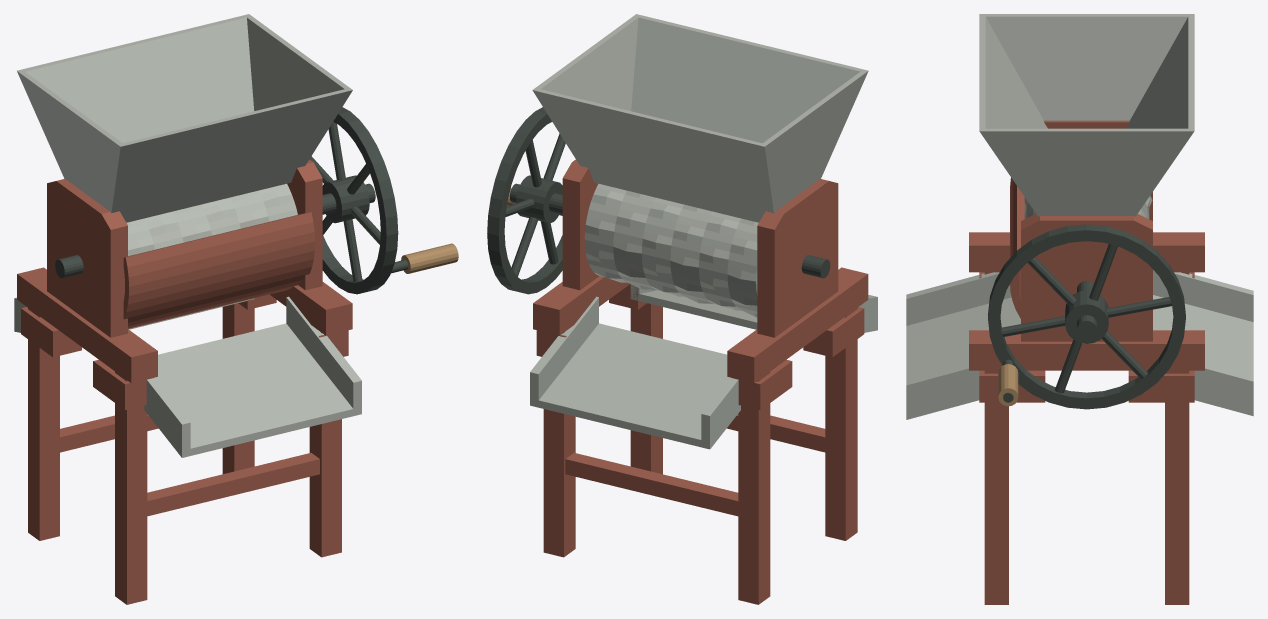
3 views of the same model, side by side, from view 1: azimuth 30°, elevation 25°; view 2: azimuth 150°, elevation 25°; view 3: azimuth 270°, elevation 25° (orthographic). The views are drawn at different scales.
Parts seen in each view (by area): view 1: WholeOpenTaperedRectangularHopper, WholeDescendingOpenFrontChute, WholeCurvedFrontBreastplate, WholeTallBearingSideplate0, WholeGroundLeg00, WholeGroundLeg01, WholeIntegralReliefPatternHorizontalDrum, WholeLongSideSupportRail0, WholeOpenSixSpokeHandwheelRim, WholeLowerCrossRail0, WholeGroundLeg10, WholeLongSideSupportRail1 (+9 smaller); view 2: WholeOpenTaperedRectangularHopper, WholeDescendingOpenRearChute, WholeIntegralReliefPatternHorizontalDrum, WholeTallBearingSideplate0, WholeGroundLeg01, WholeGroundLeg00, WholeLongSideSupportRail0, WholeGroundLeg11, WholeOpenSixSpokeHandwheelRim, WholeLowerCrossRail1, WholeTallBearingSideplate1, WholeLongSideSupportRail1 (+8 smaller); view 3: WholeOpenTaperedRectangularHopper, WholeTallBearingSideplate1, WholeDescendingOpenFrontChute, WholeOpenSixSpokeHandwheelRim, WholeDescendingOpenRearChute, WholeLongSideSupportRail1, WholeGroundLeg11, WholeGroundLeg10, WholeLongSideSupportRail0, WholeRearChuteSideSupport1, WholeSideHandwheelHub, WholeCurvedFrontBreastplate (+10 smaller).
Boxes of the visible parts, <box> form: WholeOpenTaperedRectangularHopper: <box>17,14,352,222</box>; WholeDescendingOpenFrontChute: <box>144,296,361,457</box>; WholeCurvedFrontBreastplate: <box>123,212,314,328</box>; WholeTallBearingSideplate0: <box>47,179,127,337</box>; WholeGroundLeg00: <box>115,371,147,604</box>; WholeGroundLeg01: <box>28,308,59,540</box>; WholeIntegralReliefPatternHorizontalDrum: <box>126,183,297,256</box>; WholeLongSideSupportRail0: <box>17,267,157,383</box>; WholeOpenSixSpokeHandwheelRim: <box>322,107,398,294</box>; WholeLowerCrossRail0: <box>147,453,319,516</box>; WholeGroundLeg10: <box>309,332,341,557</box>; WholeLongSideSupportRail1: <box>270,282,352,335</box>; WholeOpenTaperedRectangularHopper: <box>532,14,868,222</box>; WholeDescendingOpenRearChute: <box>530,296,740,449</box>; WholeIntegralReliefPatternHorizontalDrum: <box>584,183,758,317</box>; WholeTallBearingSideplate0: <box>757,179,838,337</box>; WholeGroundLeg01: <box>738,372,770,604</box>; WholeGroundLeg00: <box>825,308,857,540</box>; WholeLongSideSupportRail0: <box>727,267,868,382</box>; WholeGroundLeg11: <box>543,332,575,557</box>; WholeOpenSixSpokeHandwheelRim: <box>487,107,562,294</box>; WholeLowerCrossRail1: <box>565,452,738,516</box>; WholeTallBearingSideplate1: <box>562,159,599,290</box>; WholeLongSideSupportRail1: <box>533,276,629,335</box>; WholeOpenTaperedRectangularHopper: <box>979,14,1194,216</box>; WholeTallBearingSideplate1: <box>1021,214,1152,341</box>; WholeDescendingOpenFrontChute: <box>906,272,1020,419</box>; WholeOpenSixSpokeHandwheelRim: <box>988,224,1185,409</box>; WholeDescendingOpenRearChute: <box>1153,270,1253,416</box>; WholeLongSideSupportRail1: <box>969,330,1204,370</box>; WholeGroundLeg11: <box>1165,370,1189,604</box>; WholeGroundLeg10: <box>984,370,1008,604</box>; WholeLongSideSupportRail0: <box>969,232,1204,272</box>; WholeRearChuteSideSupport1: <box>1128,370,1194,402</box>; WholeSideHandwheelHub: <box>1065,290,1108,343</box>; WholeCurvedFrontBreastplate: <box>1010,177,1024,318</box>.
Size of the model in its own units: 1.23 by 1.52 by 1.
